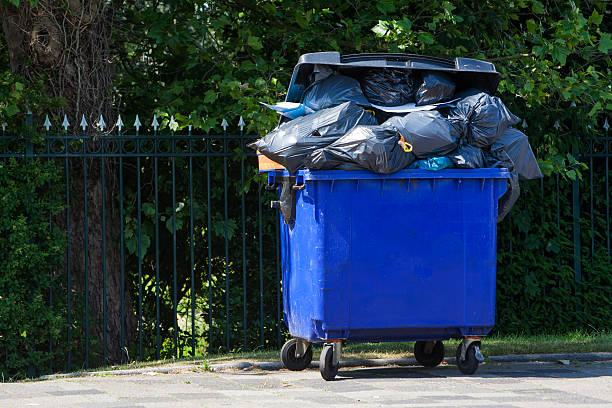trash: (251, 66, 531, 185)
trash_can_overflow: (244, 30, 526, 381)
